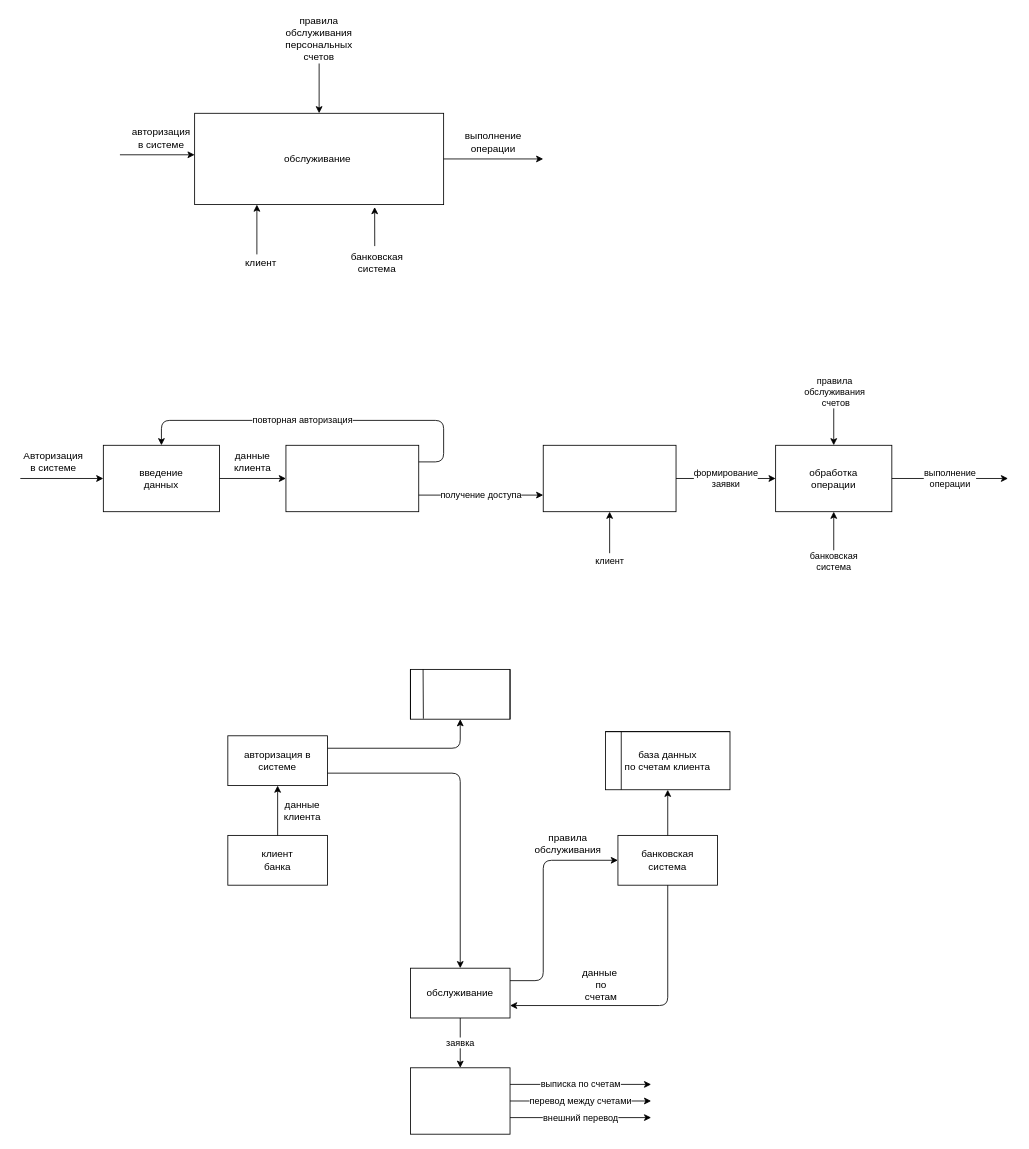
Some shapes in this 1029 by 1149 pixel diagram are drawn without their labels. Each missing label, with the box of its shape:
база данных клиентов: (410, 669, 510, 719)
выполнение операций: (410, 1067, 510, 1134)
обслуживание счетов: (542, 444, 676, 512)
проверка данных: (285, 444, 419, 512)
